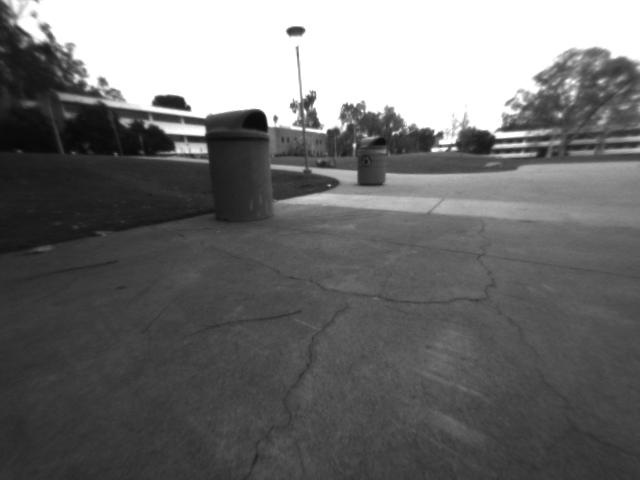trashcan: (192, 84, 300, 238)
